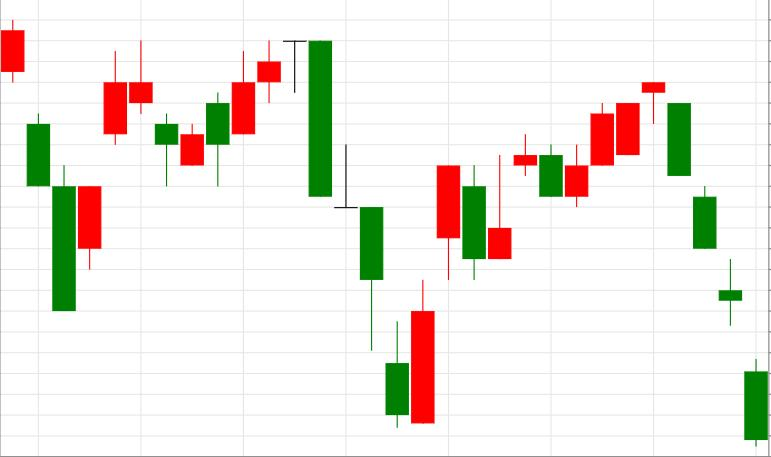evening_star_fall: (489, 83, 691, 259)
